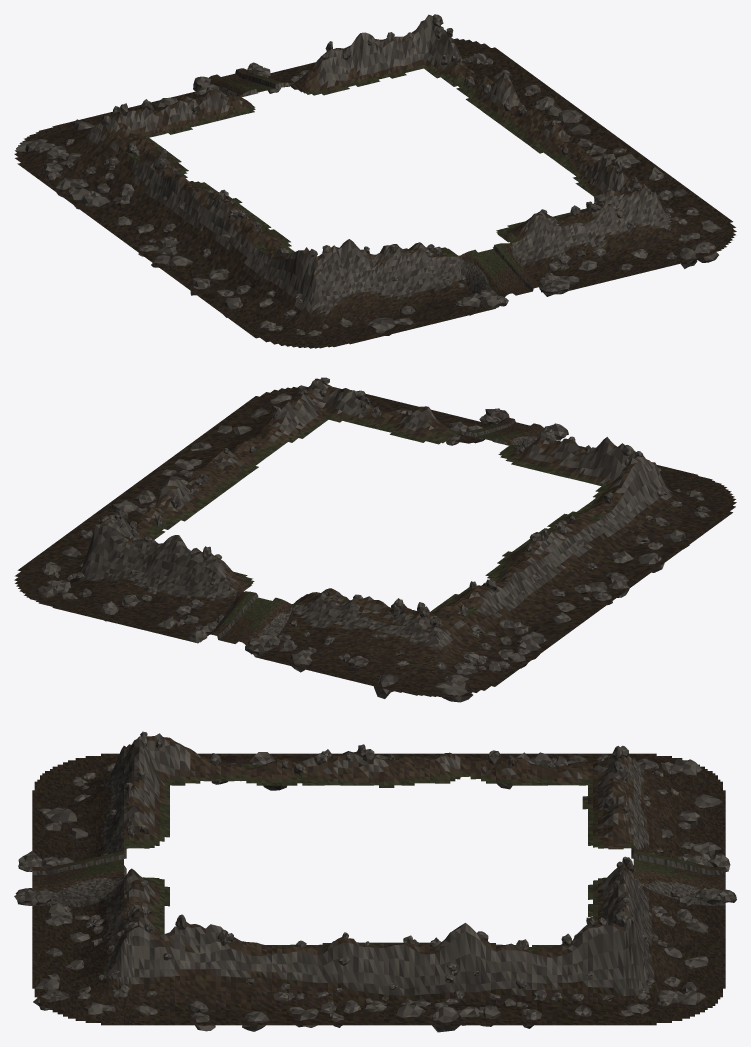
Rendered from mountain.glb.
3 renders of one model, top to bottom at view 1: azimuth 30°, elevation 25°; view 2: azimuth 150°, elevation 25°; view 3: azimuth 270°, elevation 25°, orthographic. The views are drawn at different scales.
Visible parts, largest first — view 1: geometry_0; view 2: geometry_0; view 3: geometry_0.
Boxes of the visible parts, x1=… form: geometry_0: x1=14, y1=14, x2=736, y2=348; geometry_0: x1=14, y1=377, x2=736, y2=702; geometry_0: x1=14, y1=731, x2=736, y2=1032.
Size of the model in its own units: 252 by 37.56 by 284.
